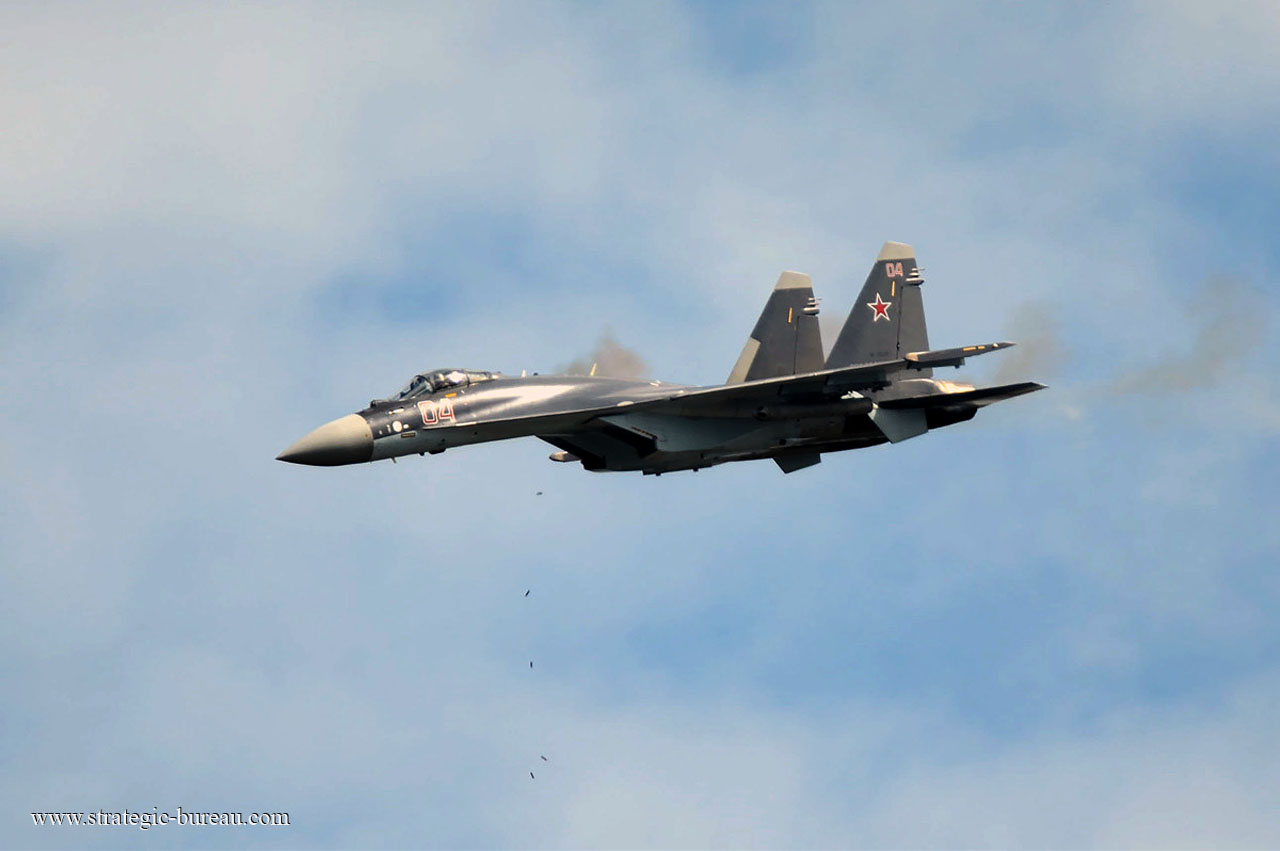Su35: (264, 235, 1056, 494)
